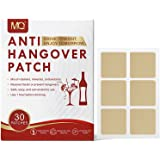Medicine: (0, 16, 96, 146)
